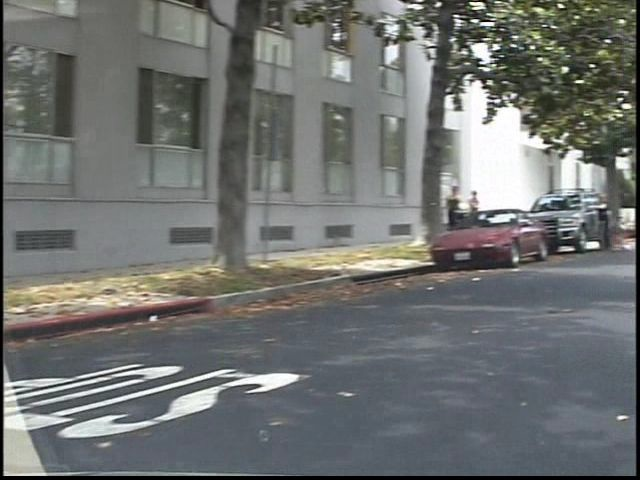person: (456, 180, 480, 245), (477, 185, 500, 240)
